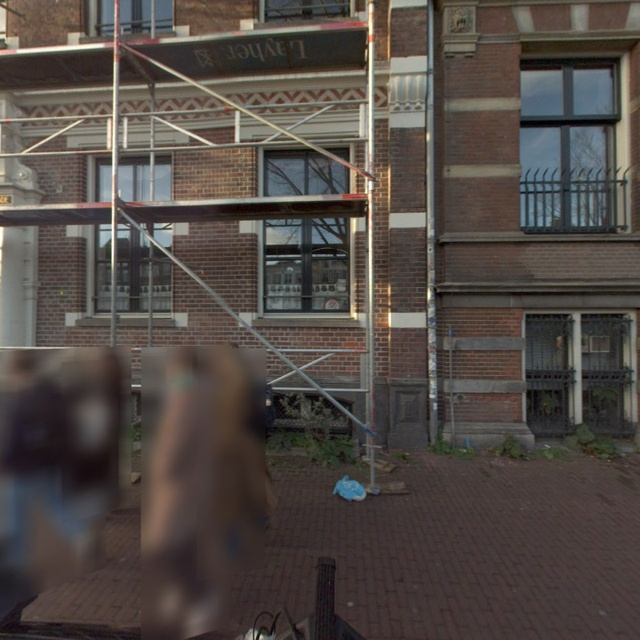Litter: (334, 476, 368, 503)
